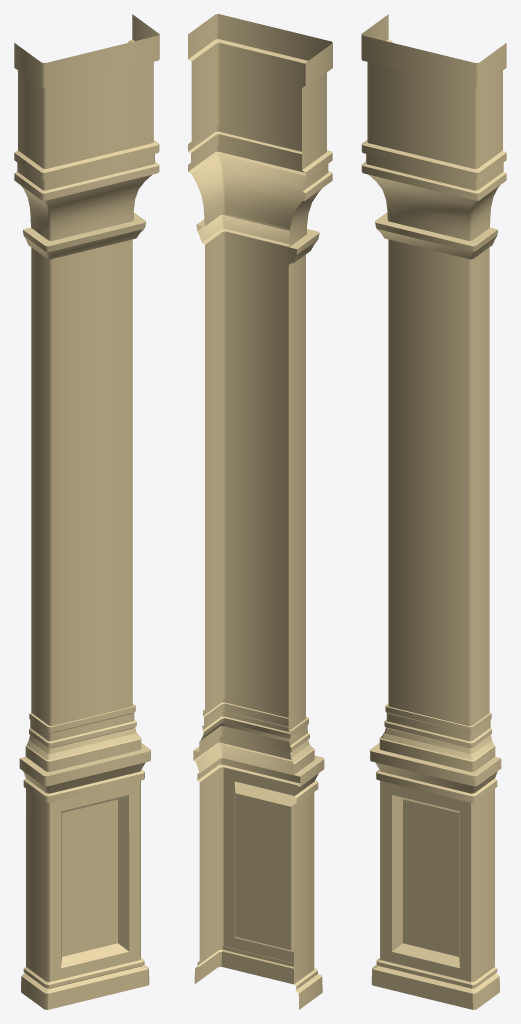
Rendered from Pillar_Wall_Wood.fbx.
The picture shows the model from 3 angles, left to right: view 1: azimuth 30°, elevation 25°; view 2: azimuth 150°, elevation 25°; view 3: azimuth 330°, elevation 25°; orthographic projection.
Visible parts, largest first — view 1: WoodWallPillar; view 2: WoodWallPillar; view 3: WoodWallPillar.
Boxes of the visible parts, x1,y1,x2,y2 form: WoodWallPillar: (14, 14, 159, 1009); WoodWallPillar: (188, 14, 332, 1009); WoodWallPillar: (361, 14, 506, 1009).
Size of the model in its own units: 0.4553 by 0.1915 by 3.51.
